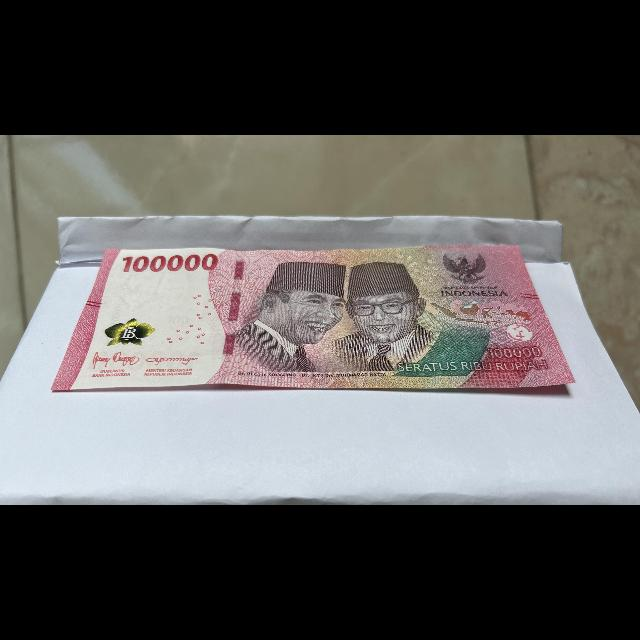Asli-100k: (45, 240, 585, 402)
Tinta-Asli-100k: (99, 317, 158, 349)
